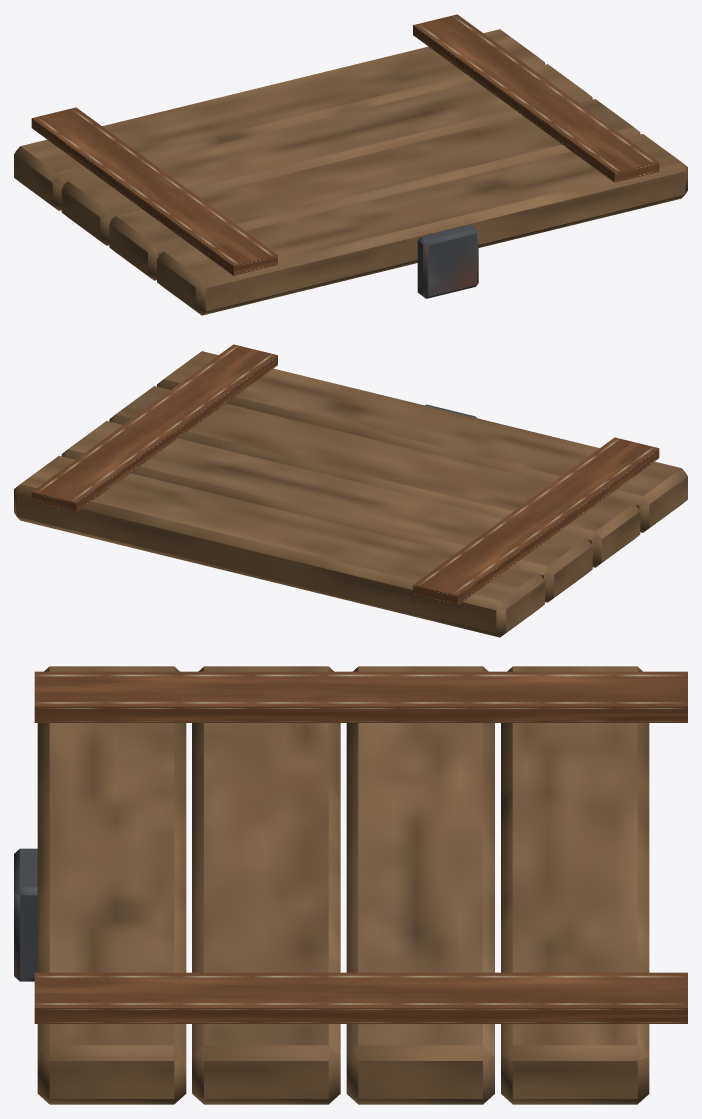
Rendered from SM_StorageBox_Lid.fbx.
3 views of the same model, one above another, from view 1: azimuth 30°, elevation 25°; view 2: azimuth 150°, elevation 25°; view 3: azimuth 270°, elevation 25° (orthographic). The views are drawn at different scales.
Visible parts, largest first — view 1: SM_StorageBox_Lid; view 2: SM_StorageBox_Lid; view 3: SM_StorageBox_Lid.
Part boxes in pixels (x1,y1,x2,y2): SM_StorageBox_Lid: [14, 14, 687, 315]; SM_StorageBox_Lid: [14, 344, 687, 637]; SM_StorageBox_Lid: [14, 666, 687, 1104].
Bounding box in the file's own units: 3.1 × 0.455 × 2.27.
Materials: 1 (1 with a texture image).
